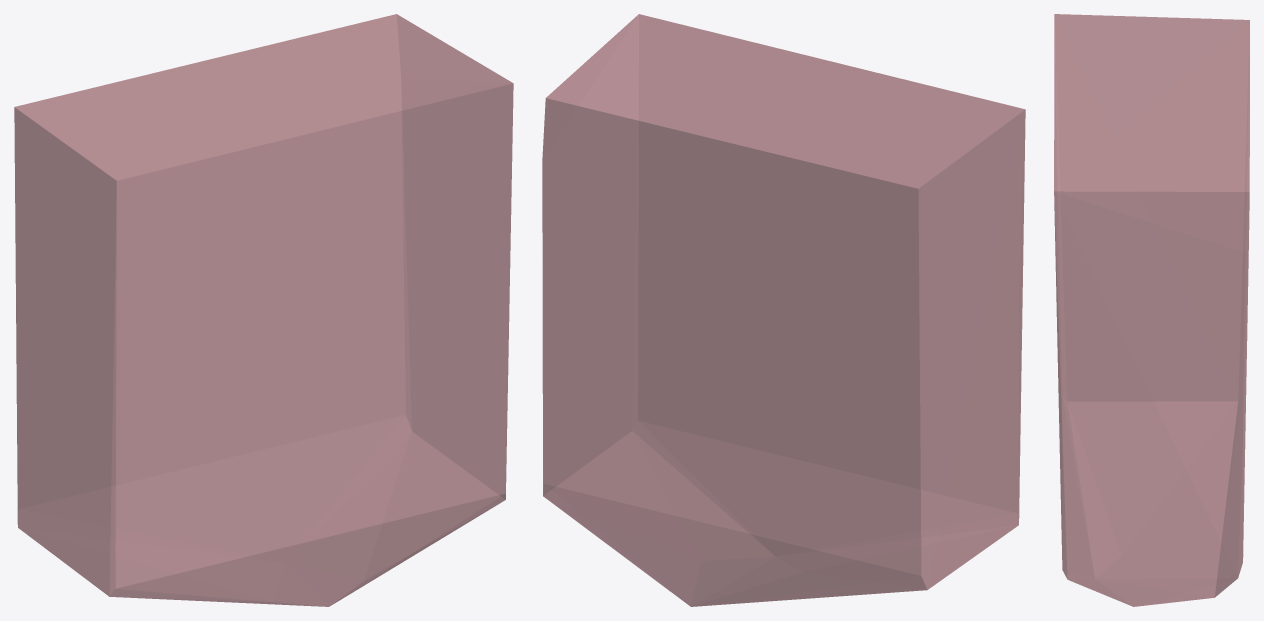
The picture shows the model from 3 angles, left to right: view 1: azimuth 30°, elevation 25°; view 2: azimuth 150°, elevation 25°; view 3: azimuth 270°, elevation 25°; orthographic projection. The views are drawn at different scales.
Visible parts, largest first — view 1: Shape_IndexedFaceSet.004_Shape_IndexedFaceSet.8976; view 2: Shape_IndexedFaceSet.004_Shape_IndexedFaceSet.8976; view 3: Shape_IndexedFaceSet.004_Shape_IndexedFaceSet.8976.
Part boxes in pixels (x1,y1,x2,y2): Shape_IndexedFaceSet.004_Shape_IndexedFaceSet.8976: [14, 14, 513, 606]; Shape_IndexedFaceSet.004_Shape_IndexedFaceSet.8976: [542, 14, 1025, 606]; Shape_IndexedFaceSet.004_Shape_IndexedFaceSet.8976: [1054, 14, 1249, 606].
Size of the model in its own units: 0.3831 by 0.4702 by 0.1777.
